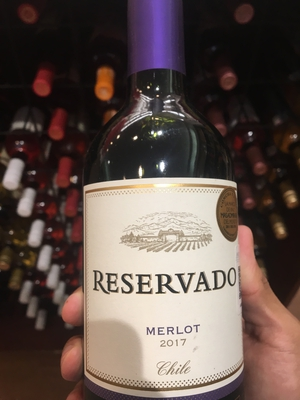reservado merlot: (63, 11, 245, 394)
